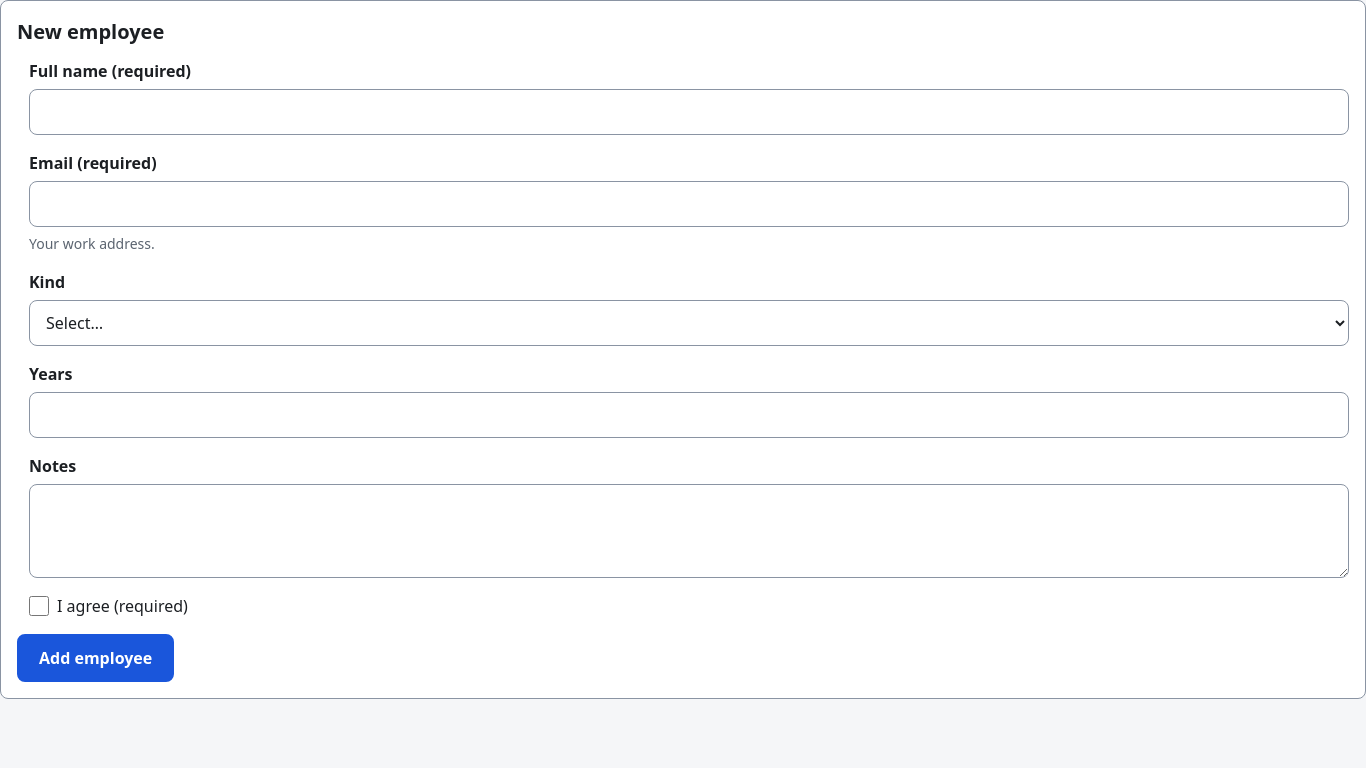
Test: Form: submit › shows an error for the whole form and keeps the values when the server fails
Type "Asha Rao" into the field labelled "Full name" at {"x": 689, "y": 112}, box [29,89,1349,135]
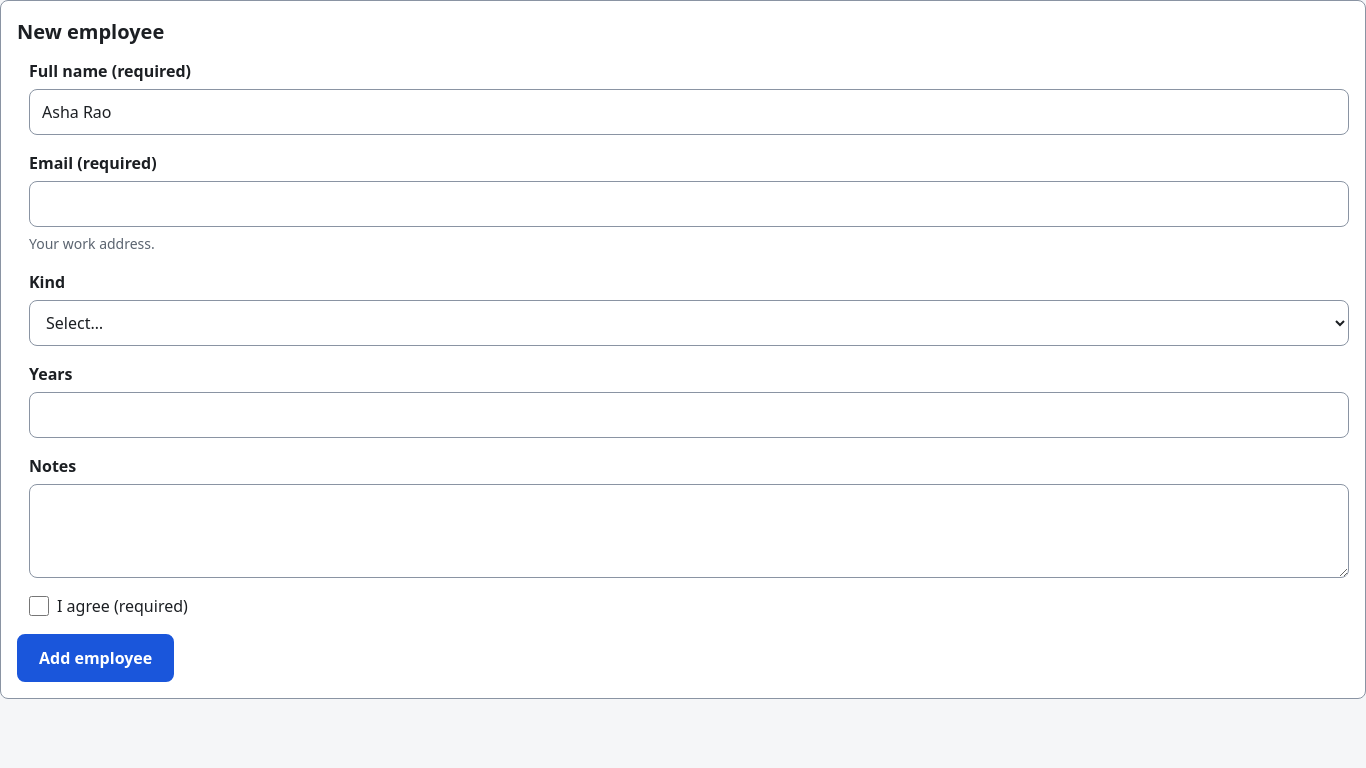
Type "asha@example.com" into the field labelled "Email" at {"x": 689, "y": 204}, box [29,181,1349,227]
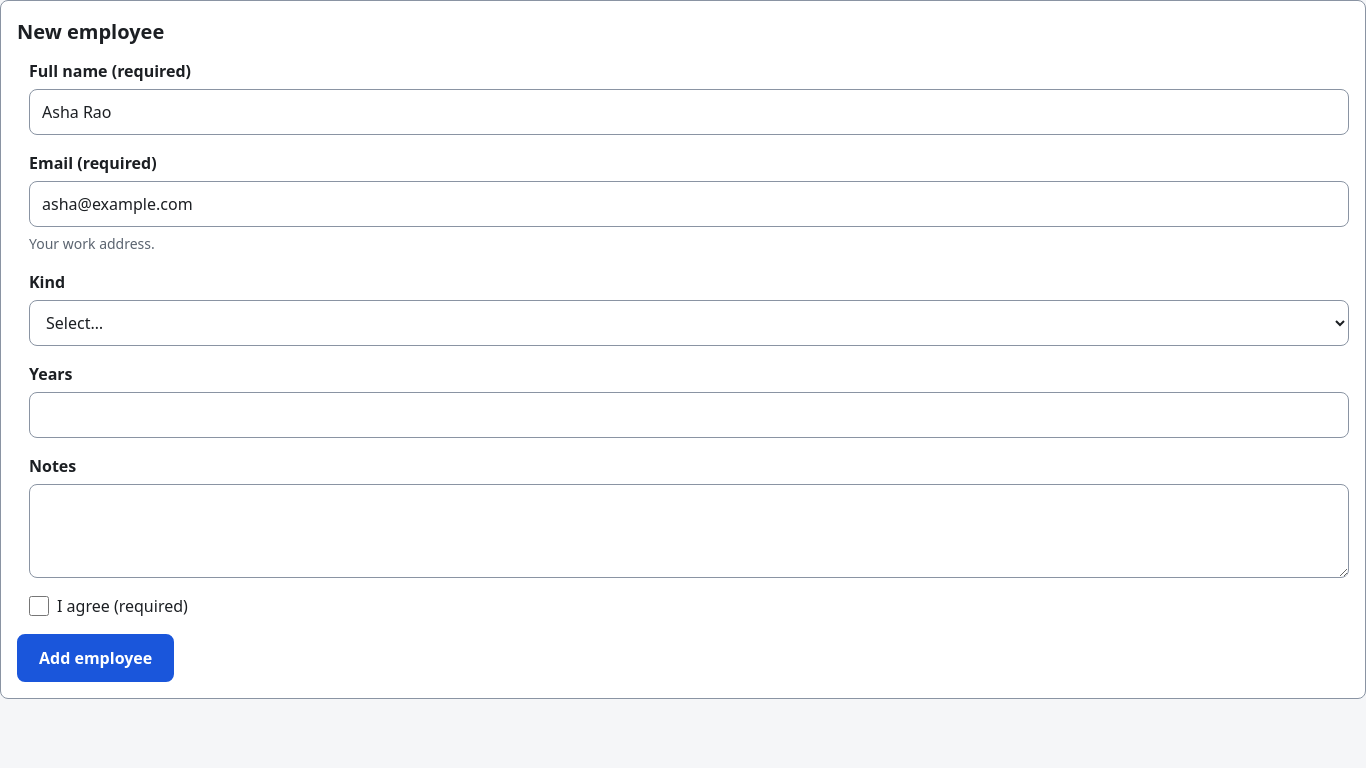
Click the checkbox labelled "I agree" at {"x": 39, "y": 606}, box [29,596,49,616]
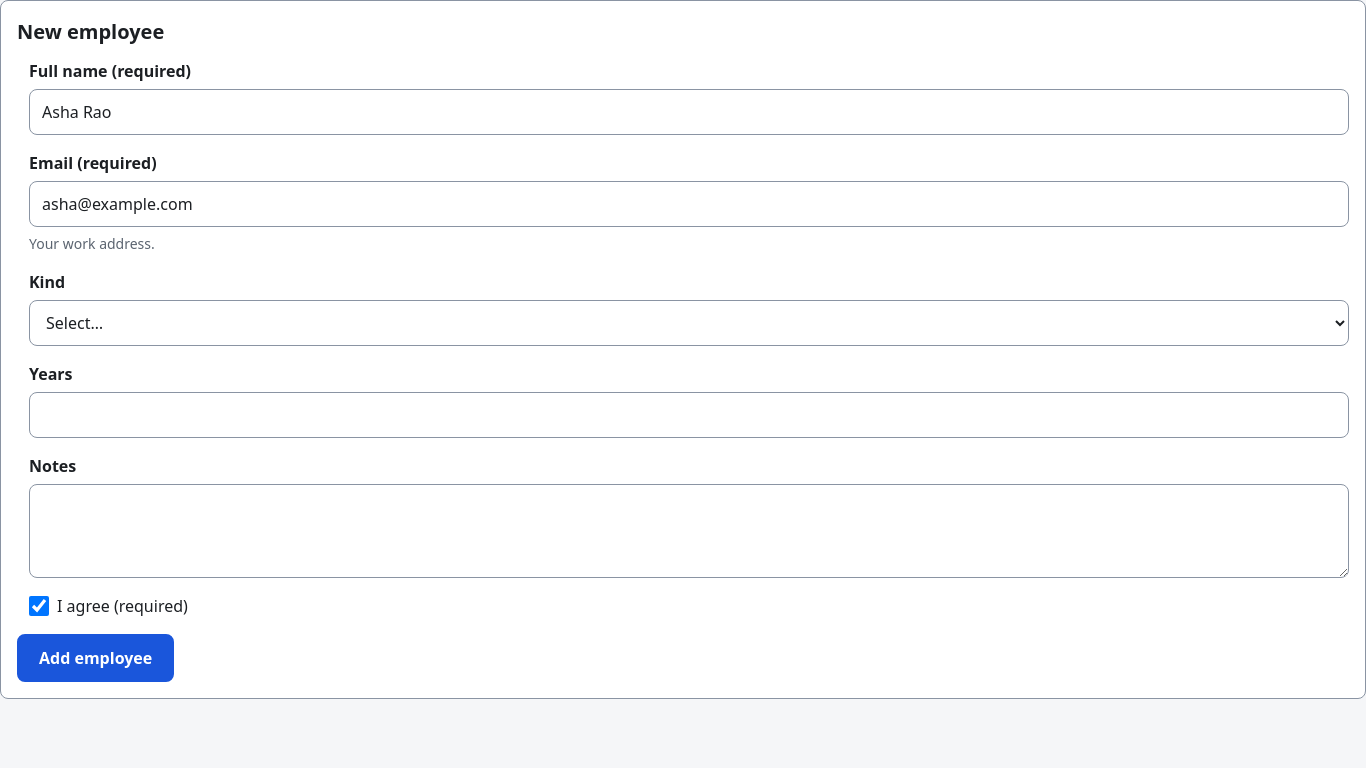
Click the button at {"x": 96, "y": 658}, box [17,634,174,682]
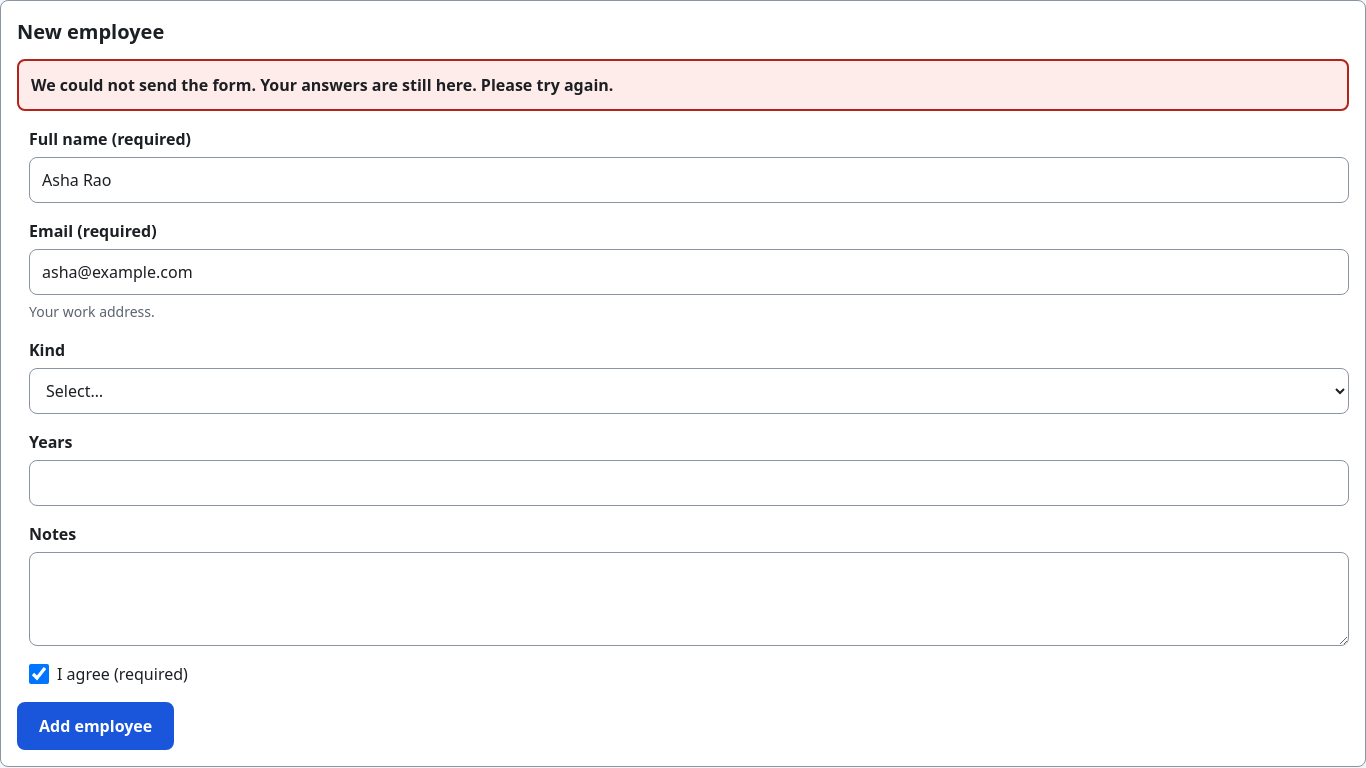
expect the checkbox labelled "I agree" is checked: met, box [29,664,49,684]
expect the message reads "We could not send the form. Your answers are still here. Please try again.": met, box [31,74,613,96]
